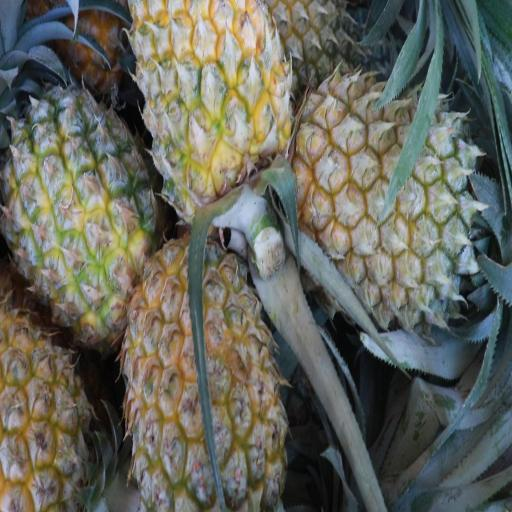------------------------------: (125, 232, 283, 512)
Pineapple - v8 v1: (4, 83, 150, 331), (129, 0, 294, 210), (0, 317, 102, 512)
